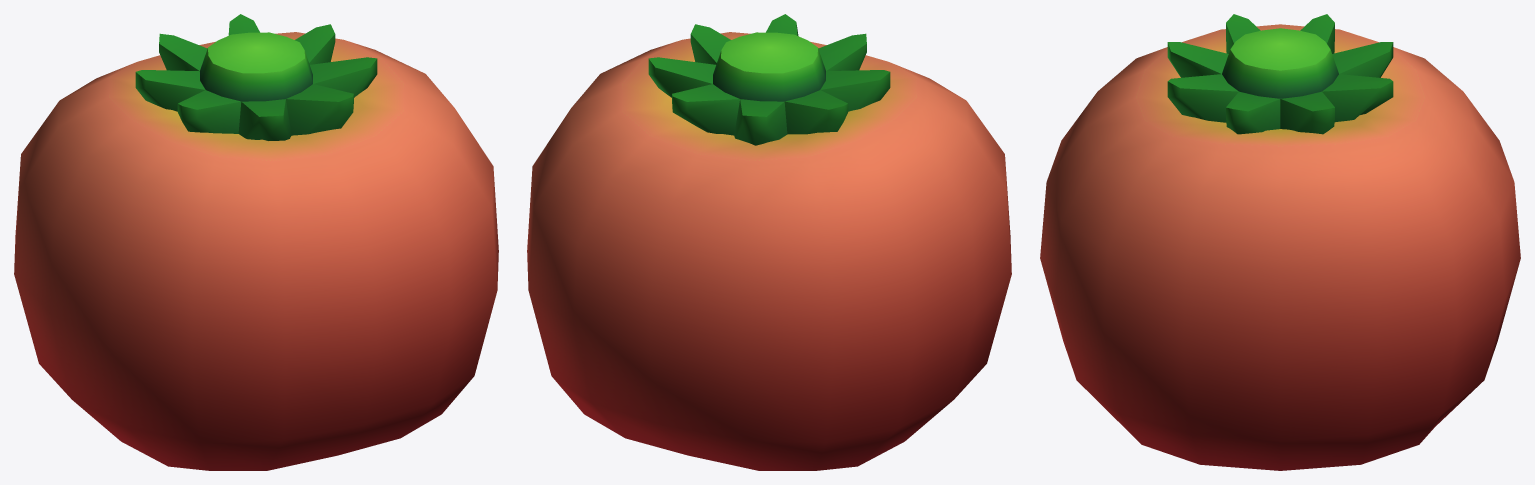
The model's file is Tomato_01.glb.
The picture shows the model from 3 angles, left to right: view 1: azimuth 30°, elevation 25°; view 2: azimuth 150°, elevation 25°; view 3: azimuth 270°, elevation 25°; orthographic projection.
Parts seen in each view (by area): view 1: Tomato_01; view 2: Tomato_01; view 3: Tomato_01.
Part boxes in pixels (box(x1,y1,x2,y2)): Tomato_01: box(14, 14, 498, 470); Tomato_01: box(527, 14, 1011, 470); Tomato_01: box(1040, 14, 1520, 470).
Bounding box in the file's own units: 0.2659 × 0.232 × 0.2676.
Materials: 1 (1 with a texture image).
